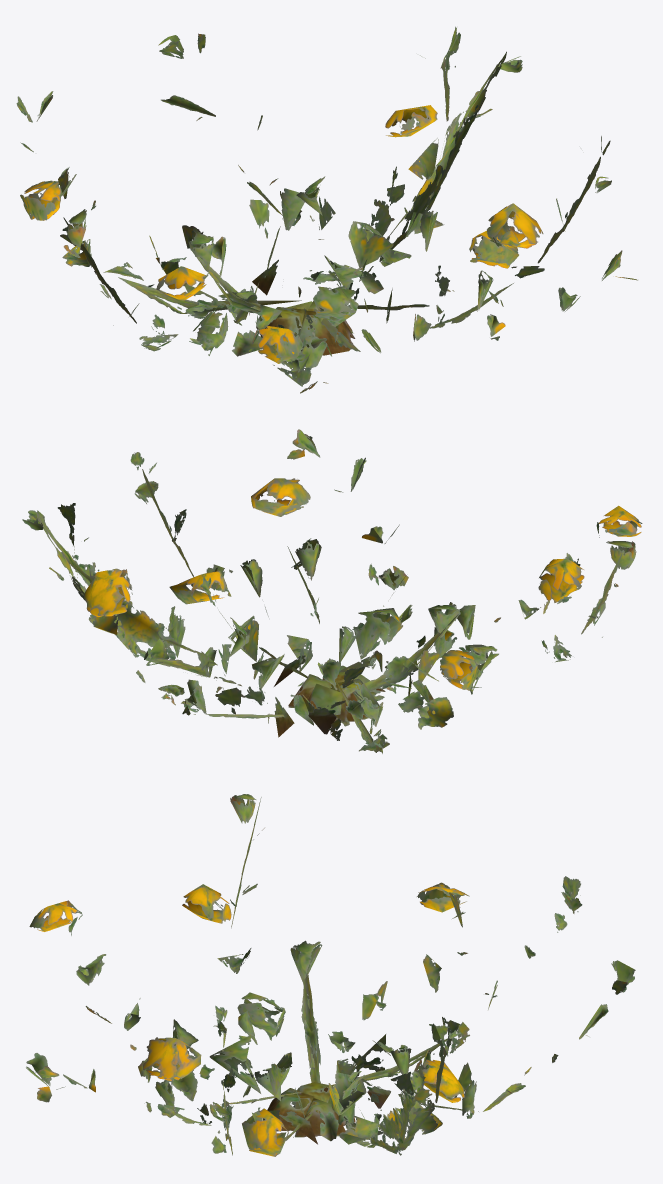
Rendered from BirdsFootTrefoil.glb.
3 renders of one model, top to bottom at view 1: azimuth 30°, elevation 25°; view 2: azimuth 150°, elevation 25°; view 3: azimuth 270°, elevation 25°, orthographic. The views are drawn at different scales.
Visible parts, largest first — view 1: geometry_0; view 2: geometry_0; view 3: geometry_0.
Part boxes in pixels (bbox=[...]): geometry_0: bbox=[16, 26, 637, 393]; geometry_0: bbox=[22, 429, 642, 753]; geometry_0: bbox=[26, 794, 635, 1156].
Size of the model in its own units: 0.6429 by 0.24 by 0.6535.
Materials: 1 (1 with a texture image).
